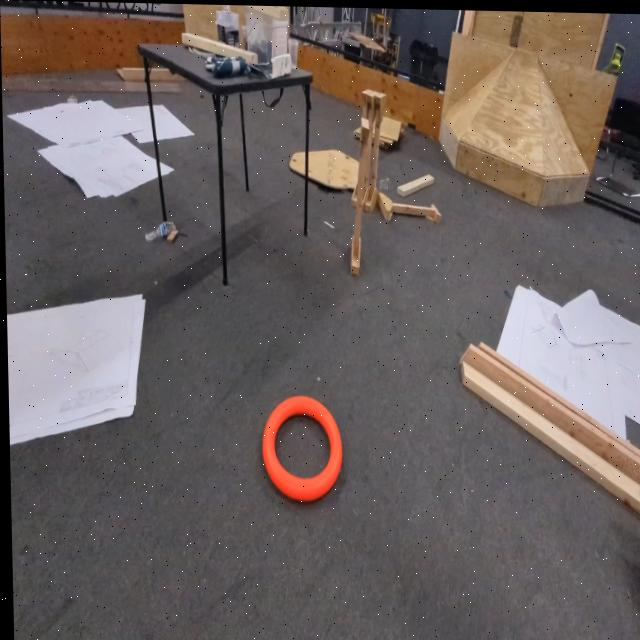note: (259, 397, 341, 503)
